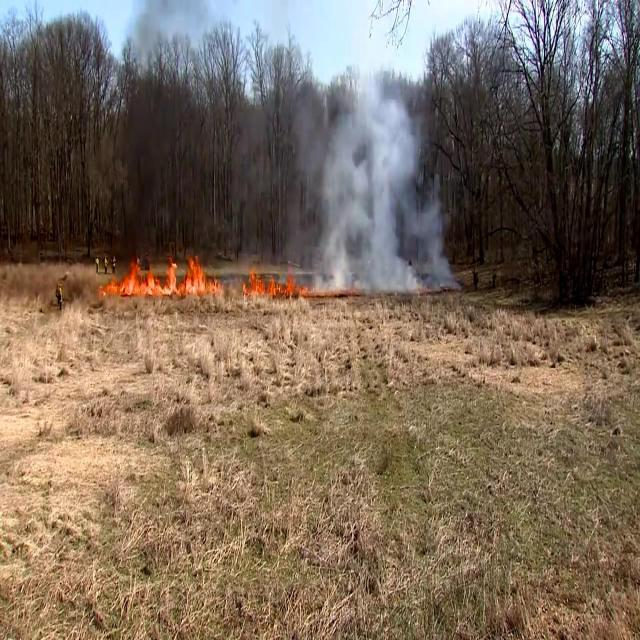Fire: (104, 266, 224, 295), (246, 268, 316, 298)
